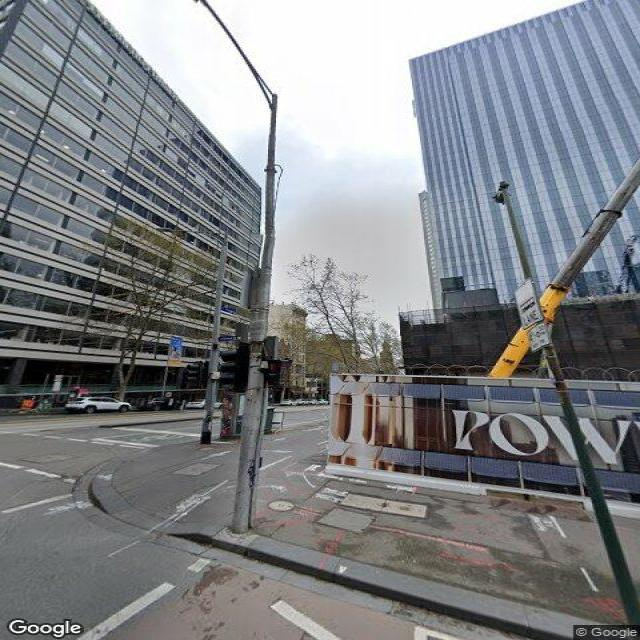steel-pole: (498, 185, 640, 626), (230, 93, 281, 534), (200, 236, 228, 444)
streetlight: (197, 0, 275, 108), (154, 227, 228, 237)
